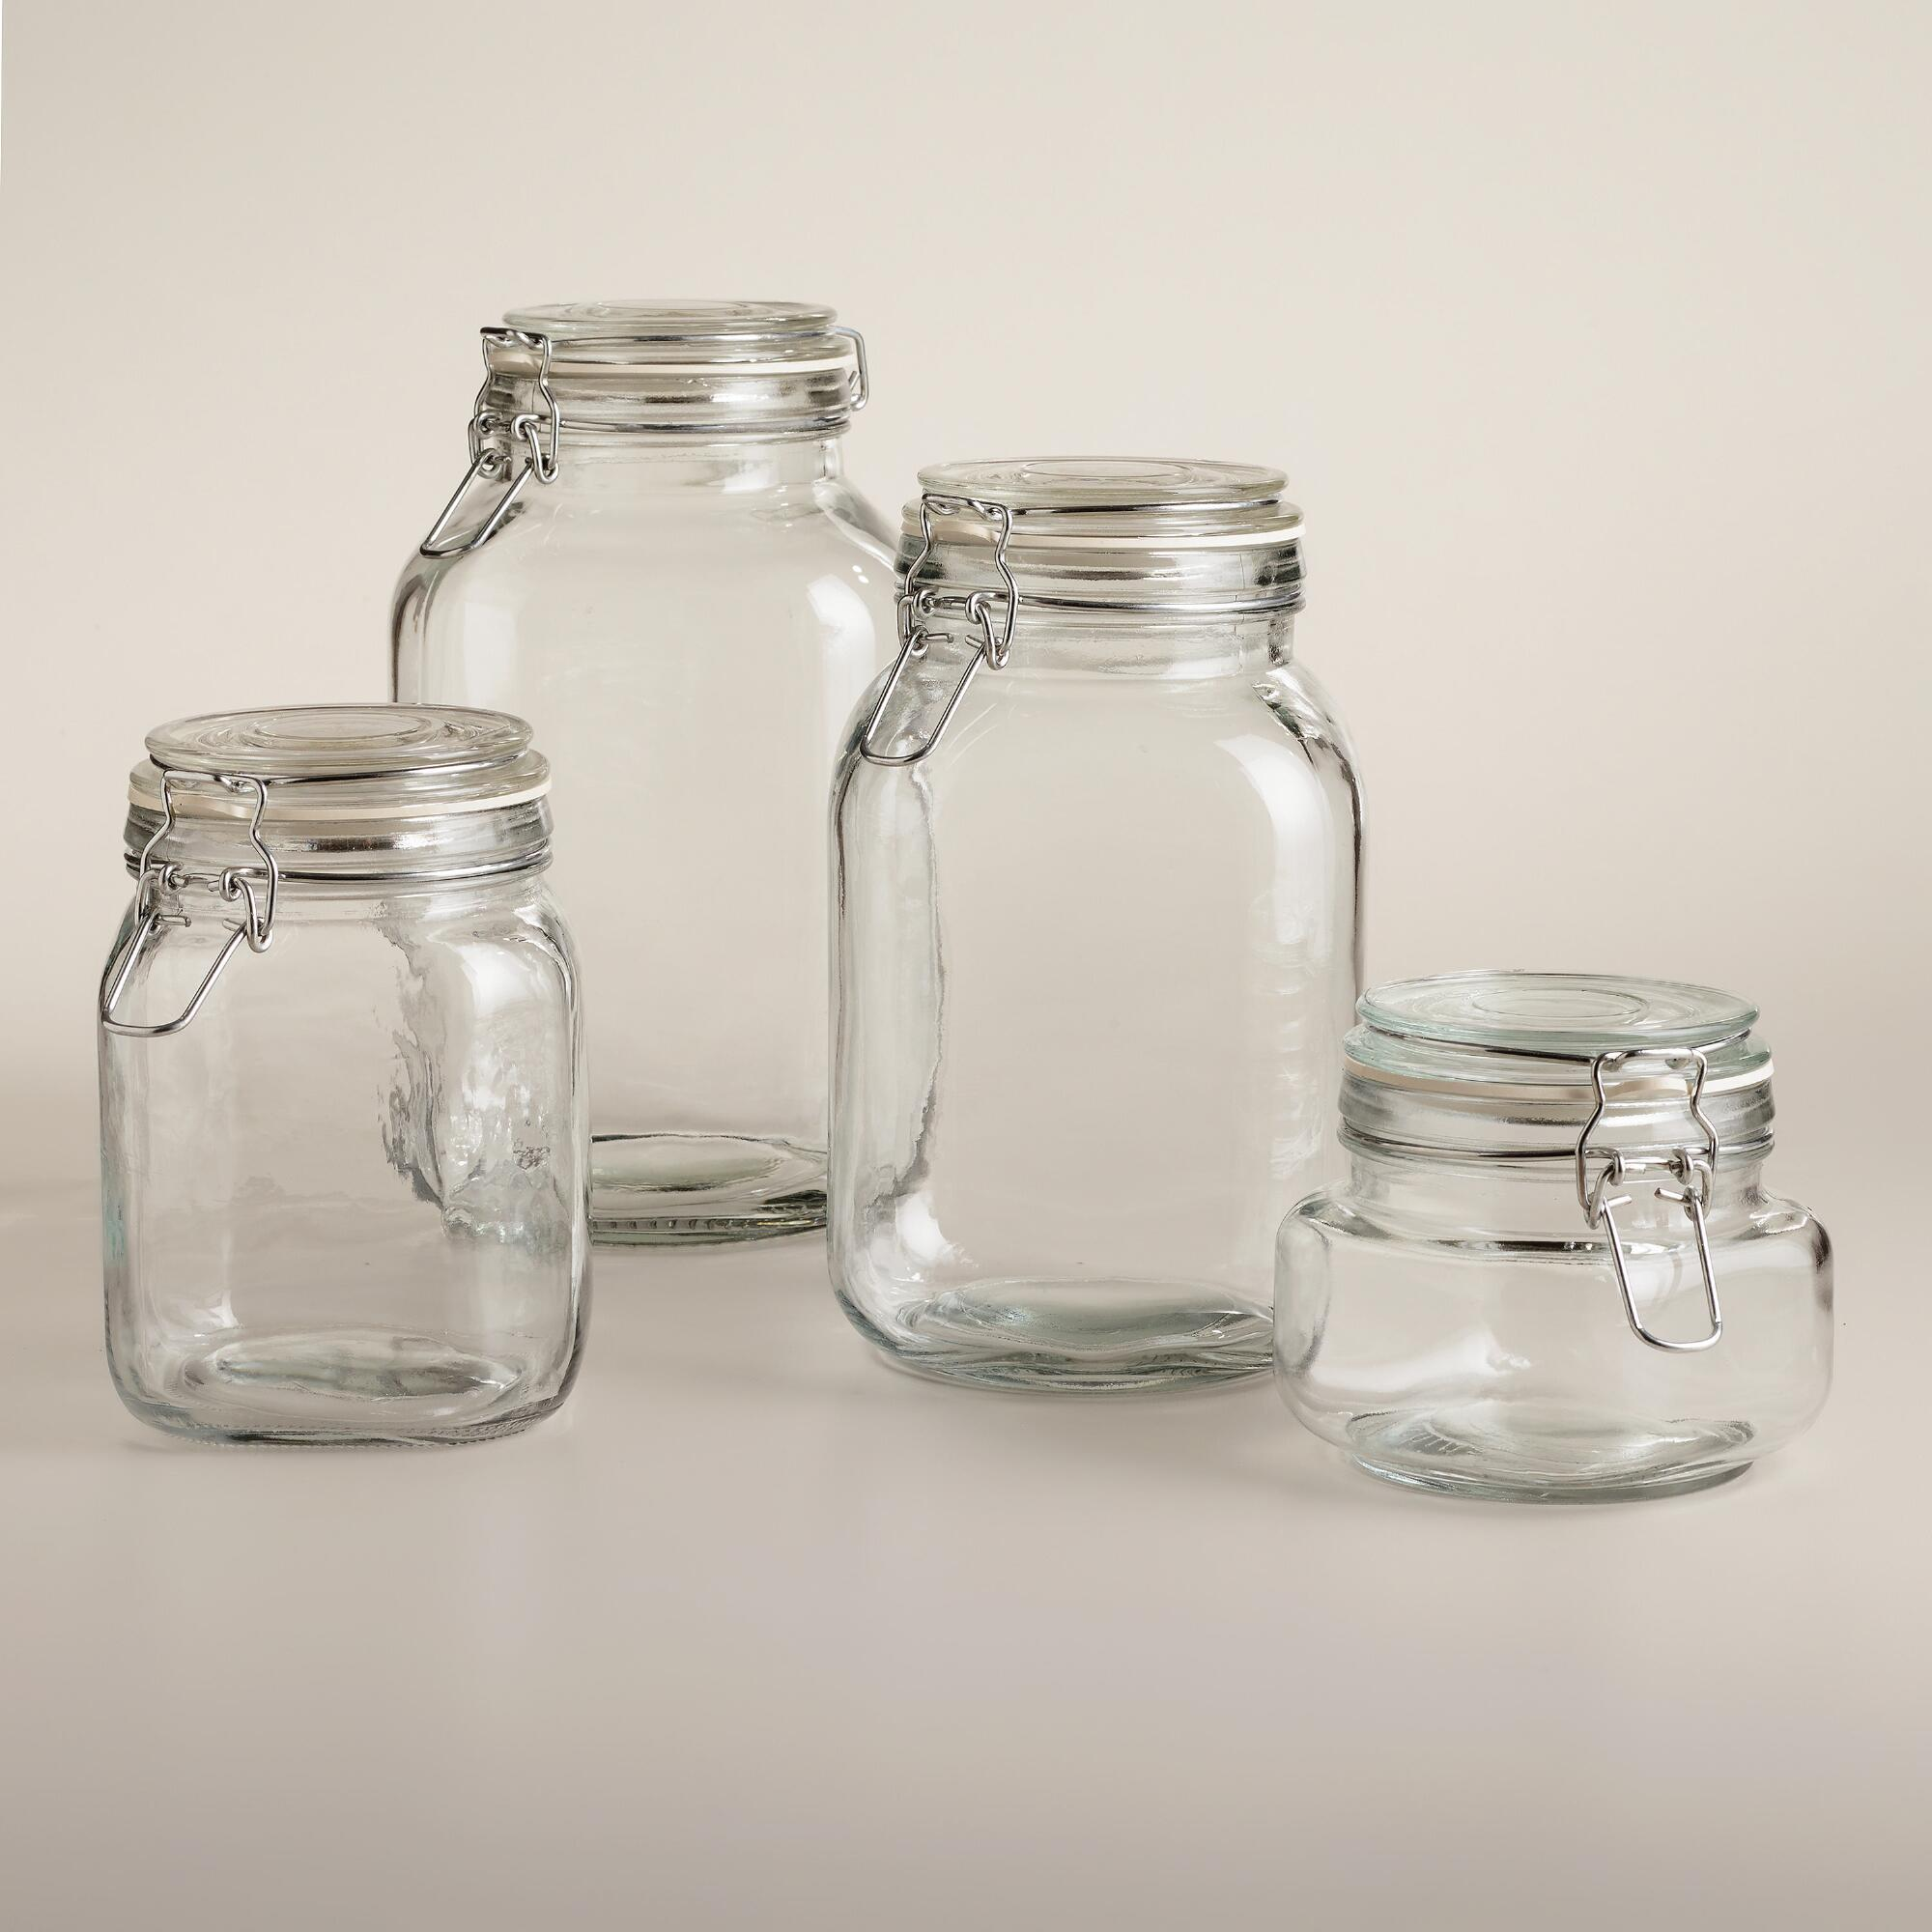Rec_Glass: (78, 198, 1861, 1592), (352, 239, 954, 1237), (805, 396, 1350, 1483), (81, 617, 706, 1461), (1269, 936, 1856, 1537)
